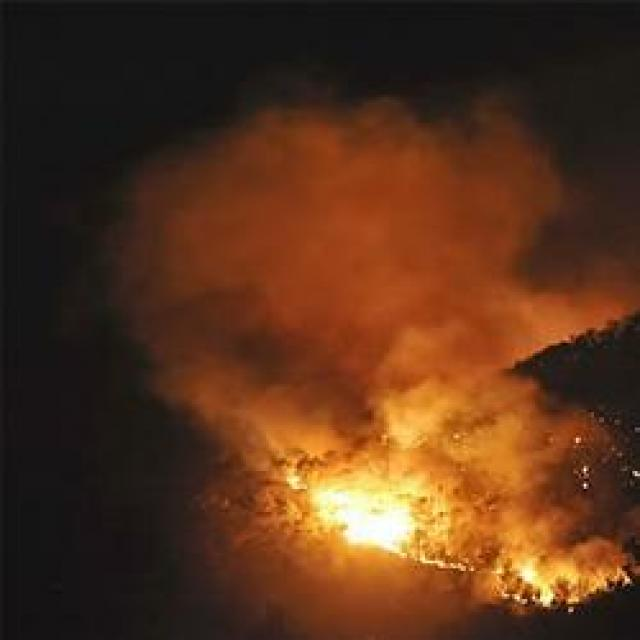fire: (273, 444, 606, 621)
